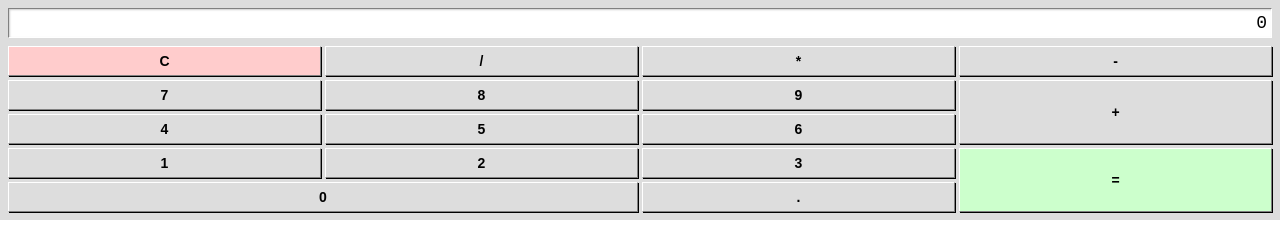
it: Calculator › Decimal Point Input › adds decimal point to number
The width and height of the screenshot is (1280, 237).
What coordinates should you click on to do the following:
click the button with test id "btn-5"
I would click on:
 (482, 129)
Its box is [325, 114, 638, 144].
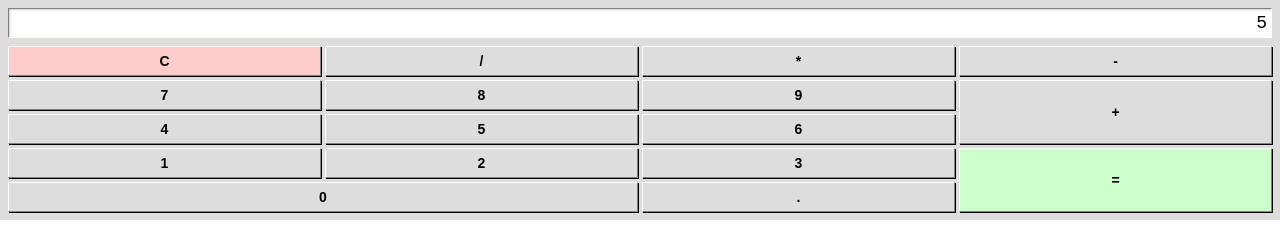
What coordinates should you click on to do the following:
click the button with test id "btn-dot"
I would click on:
 (798, 197)
Its box is [642, 182, 955, 212].
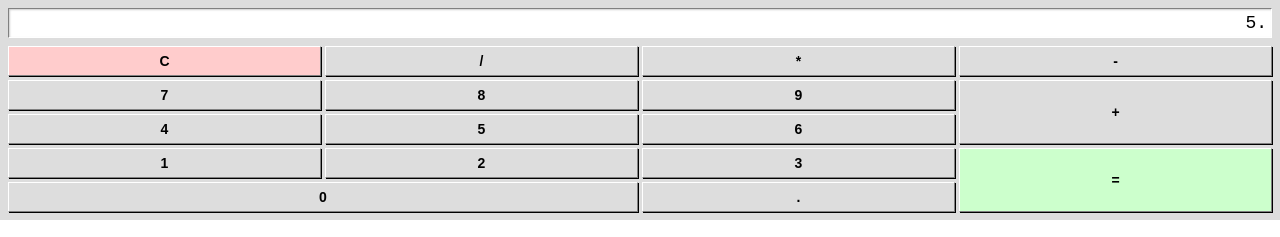
Expected: the text with test id "display" reads "5.", [1245, 13, 1267, 33]
